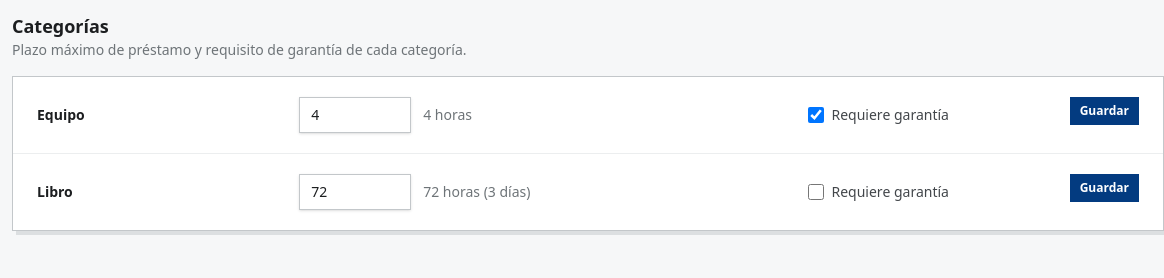
Test case: CategoriesSection › valida que el plazo sea de al menos 1 hora
The image size is (1164, 278).
Replace the text in the number field named "Plazo máximo en horas de Equipo" with "0" at coordinates (355, 115), box [299,97,411,133]
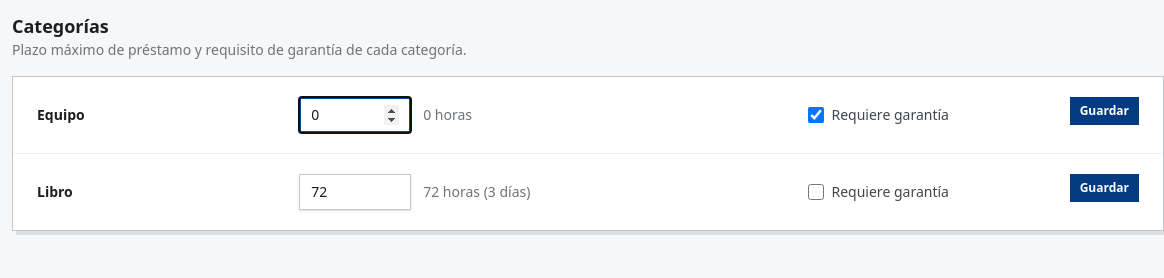
Click the button "Guardar" in the row of "0 horas" at coordinates (1104, 111), box [1070,97,1139,125]
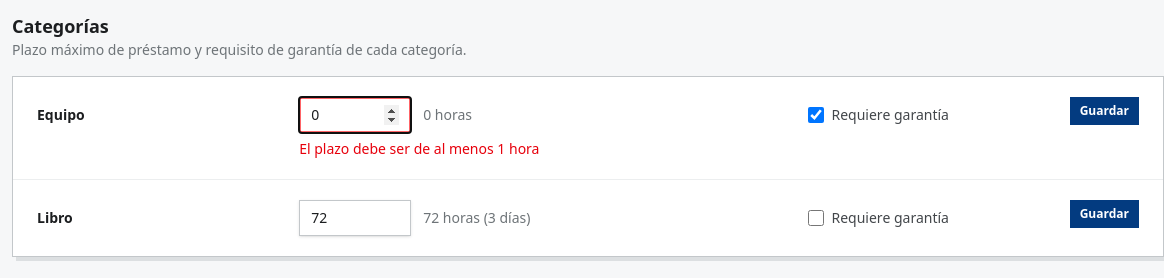
Expected: the text "El plazo debe ser de al menos 1 hora" is shown, [299,139,540,158]
